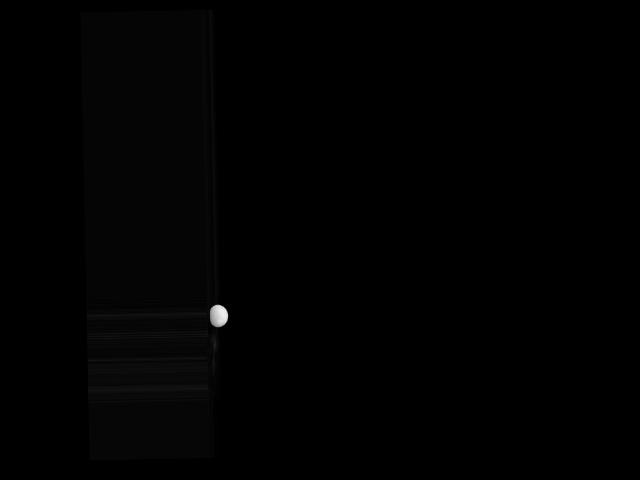egg: (209, 304, 228, 327)
